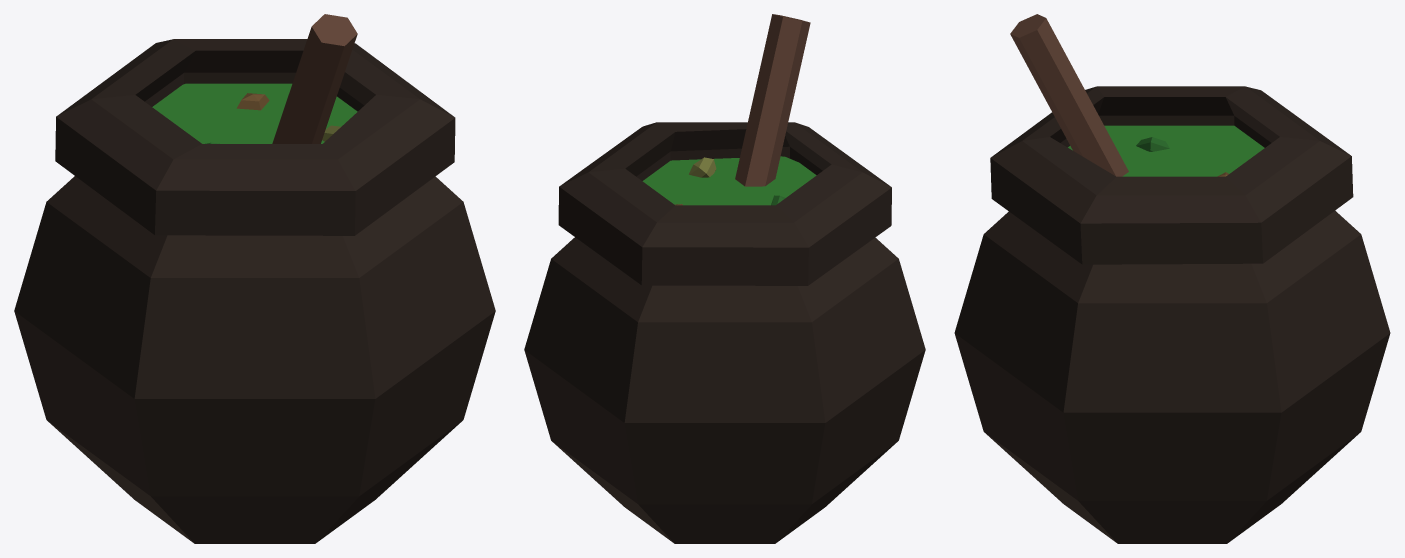
Rendered from Cauldron.glb.
3 renders of one model, left to right at view 1: azimuth 30°, elevation 25°; view 2: azimuth 150°, elevation 25°; view 3: azimuth 270°, elevation 25°, orthographic. The views are drawn at different scales.
Parts seen in each view (by area): view 1: Cylinder; view 2: Cylinder; view 3: Cylinder.
Part boxes in pixels (x1,y1,x2,y2): Cylinder: (14,14,495,543); Cylinder: (524,14,925,543); Cylinder: (954,14,1390,543).
Size of the model in its own units: 0.8105 by 1.15 by 0.9359.
